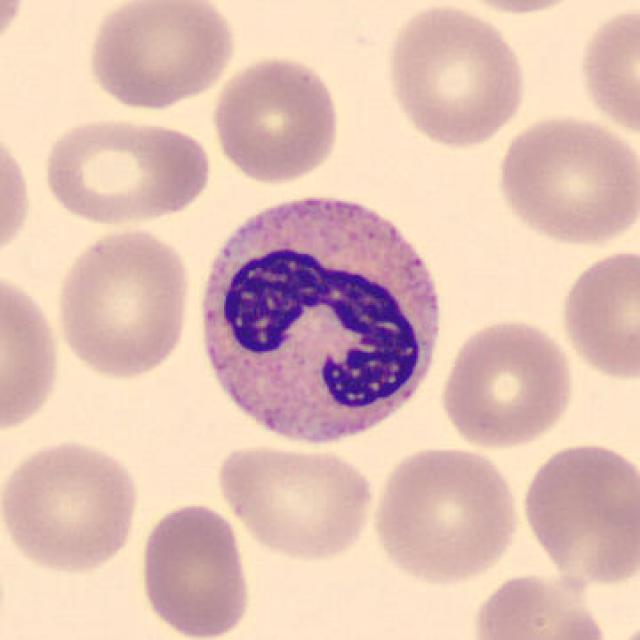Neutrophil: (187, 178, 453, 464)
RBC: (368, 441, 524, 587), (52, 224, 194, 383), (381, 2, 532, 150), (0, 434, 144, 576), (492, 109, 638, 249), (38, 113, 214, 229), (213, 438, 377, 562), (436, 314, 578, 451), (518, 437, 638, 591), (208, 53, 345, 187), (84, 0, 240, 113), (135, 499, 254, 640), (555, 245, 638, 383), (0, 266, 64, 441), (469, 569, 614, 640), (574, 2, 640, 141), (0, 116, 36, 270), (444, 0, 594, 16), (0, 2, 30, 63)
